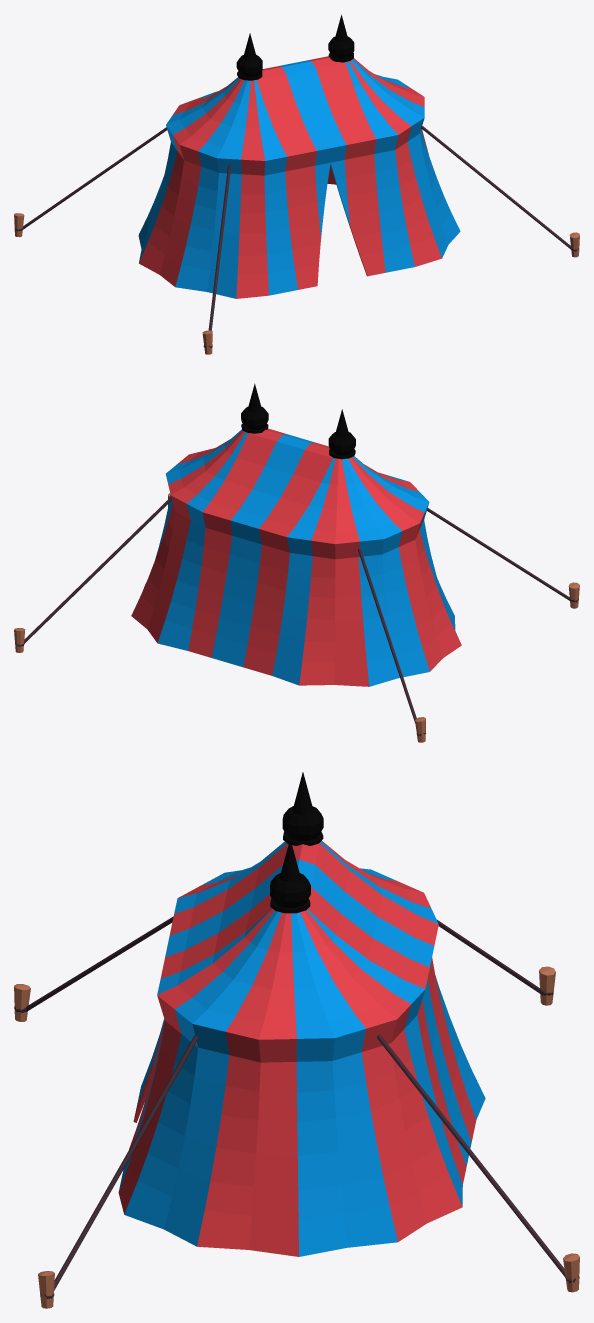
Rendered from Teent_02.fbx.
The picture shows the model from 3 angles, top to bottom: view 1: azimuth 30°, elevation 25°; view 2: azimuth 150°, elevation 25°; view 3: azimuth 270°, elevation 25°; orthographic projection. The views are drawn at different scales.
Parts seen in each view (by area): view 1: Teent_02; view 2: Teent_02; view 3: Teent_02.
Boxes of the visible parts, bbox=[...] form: Teent_02: bbox=[14, 14, 579, 354]; Teent_02: bbox=[14, 383, 579, 742]; Teent_02: bbox=[14, 772, 579, 1308].
Size of the model in its own units: 1105 by 582 by 854.
